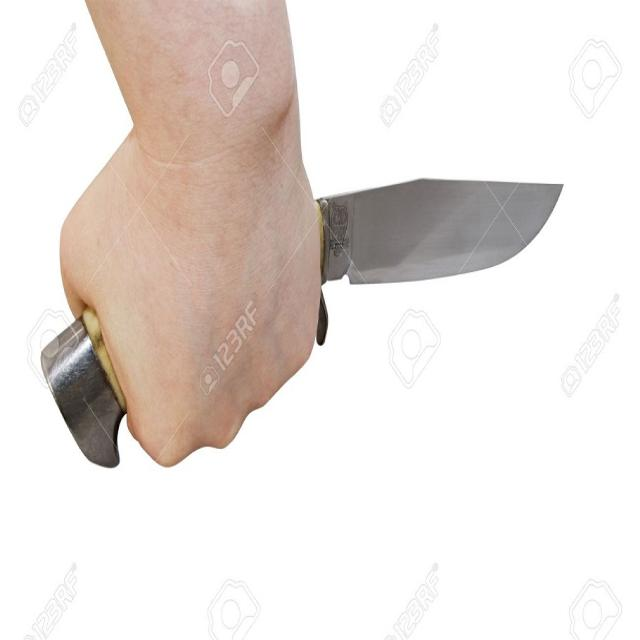knife: (323, 164, 570, 297)
